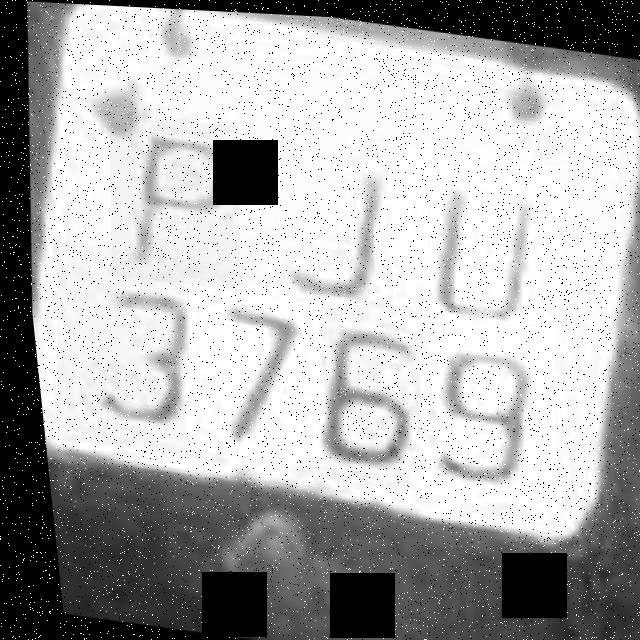3: (32, 239, 230, 460)
6: (277, 286, 442, 491)
7: (163, 275, 328, 464)
9: (395, 305, 562, 506)
J: (232, 129, 414, 321)
P: (92, 107, 248, 291)
U: (372, 139, 571, 345)
